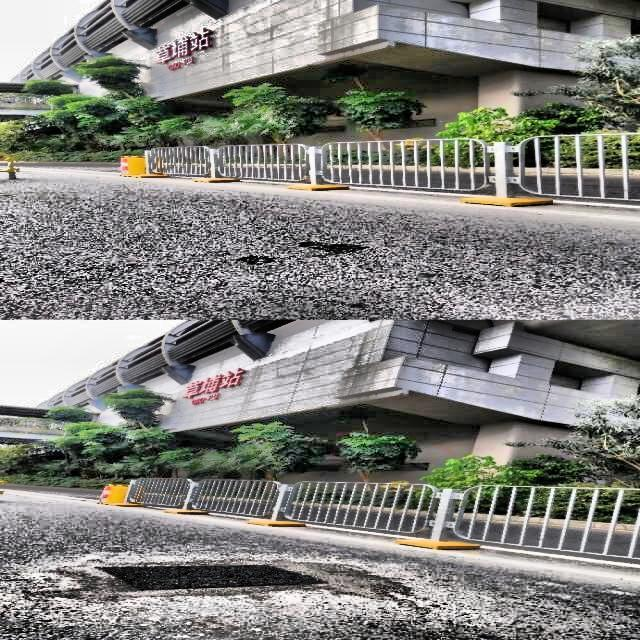buraco: (108, 561, 336, 593), (224, 250, 313, 272)
